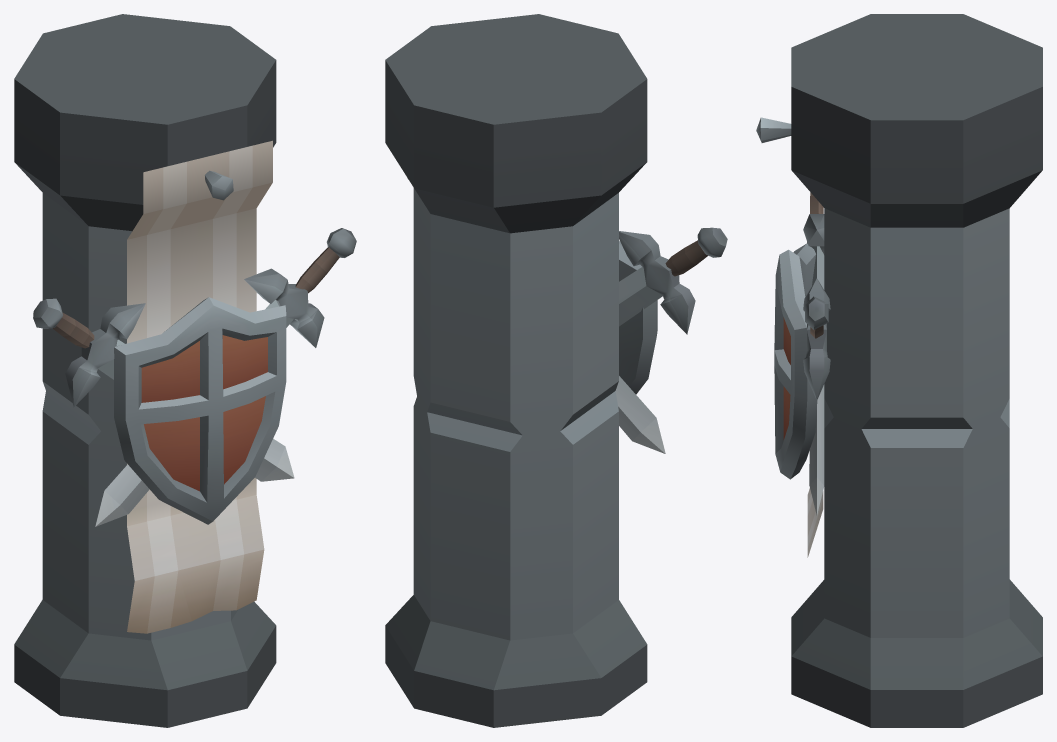
File: d_kaykit_pilier_orne.glb
3 views of the same model, side by side, from view 1: azimuth 30°, elevation 25°; view 2: azimuth 150°, elevation 25°; view 3: azimuth 270°, elevation 25° (orthographic).
Visible parts, largest first — view 1: d_kaykit_pilier_orne; view 2: d_kaykit_pilier_orne; view 3: d_kaykit_pilier_orne.
Boxes of the visible parts, box(x1,y1,x2,y2) form: d_kaykit_pilier_orne: box(14, 14, 356, 727); d_kaykit_pilier_orne: box(385, 14, 727, 727); d_kaykit_pilier_orne: box(756, 14, 1042, 727).
Size of the model in its own units: 2.23 by 4 by 1.71.
1 material, 1 textured.
